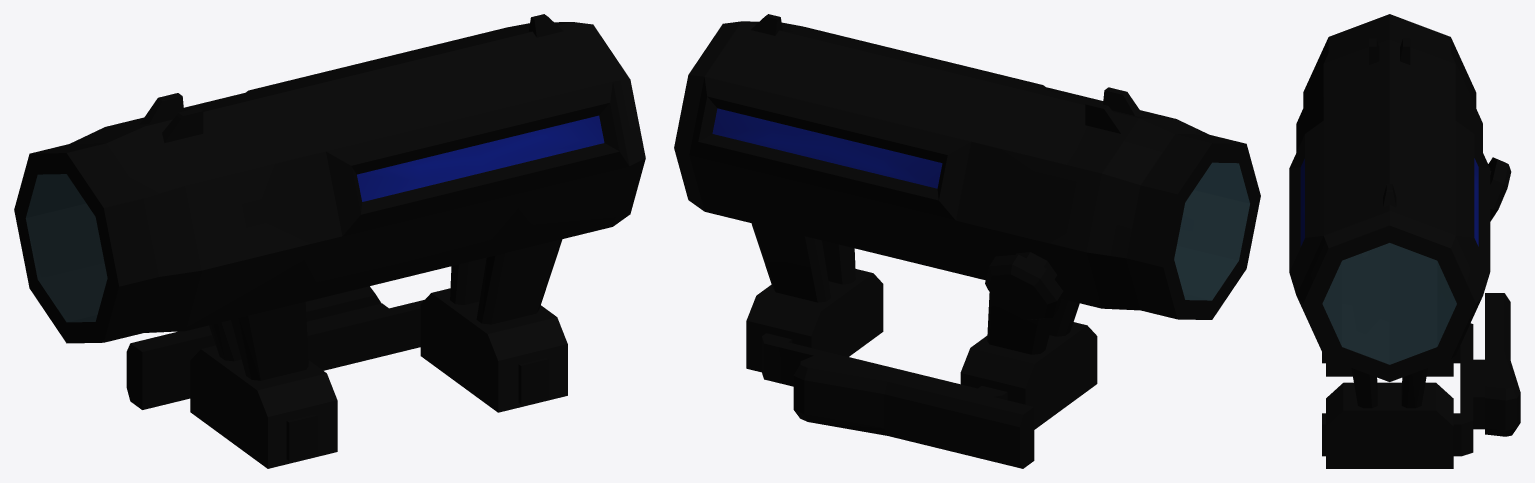
Rendered from k-att-magnified-west.glb.
The picture shows the model from 3 angles, left to right: view 1: azimuth 30°, elevation 25°; view 2: azimuth 150°, elevation 25°; view 3: azimuth 270°, elevation 25°; orthographic projection. The views are drawn at different scales.
Visible parts, largest first — view 1: kit (×3), lens; view 2: kit (×3), lens; view 3: kit (×3), lens.
Boxes of the visible parts, x1,y1,x2,y2 form: kit (×3): [14, 14, 645, 468]; lens: [26, 174, 107, 322]; kit (×3): [674, 14, 1260, 468]; lens: [1174, 162, 1249, 300]; kit (×3): [1289, 14, 1520, 468]; lens: [1322, 243, 1456, 364].
Size of the model in its own units: 0.1166 by 0.0746 by 0.0539.
